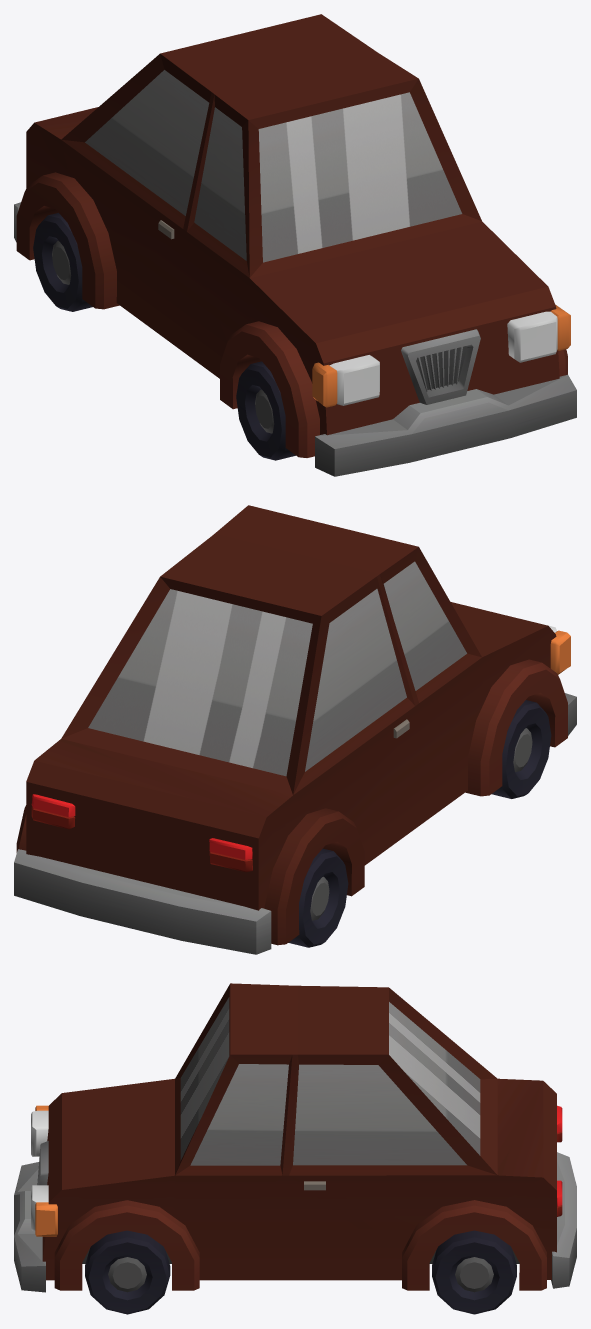
File: Car_4_10.glb
3 views of the same model, one above another, from view 1: azimuth 30°, elevation 25°; view 2: azimuth 150°, elevation 25°; view 3: azimuth 270°, elevation 25° (orthographic). The views are drawn at different scales.
Parts seen in each view (by area): view 1: Car_4_10, BWhel_FR, BWhel_BR; view 2: Car_4_10, BWhel_BR, BWhel_FR; view 3: Car_4_10, BWhel_FL, BWhel_BL.
Part boxes in pixels (left/top/right/bottom): Car_4_10: left=14, top=14, right=576, bottom=476; BWhel_FR: left=236, top=361, right=295, bottom=460; BWhel_BR: left=33, top=212, right=92, bottom=311; Car_4_10: left=14, top=505, right=576, bottom=954; BWhel_BR: left=288, top=848, right=348, bottom=947; BWhel_FR: left=491, top=700, right=551, bottom=798; Car_4_10: left=14, top=983, right=576, bottom=1292; BWhel_FL: left=85, top=1230, right=170, bottom=1314; BWhel_BL: left=432, top=1230, right=516, bottom=1314.
Bounding box in the file's own units: 1.09 × 1.09 × 2.3.
6 materials, 6 textured.
